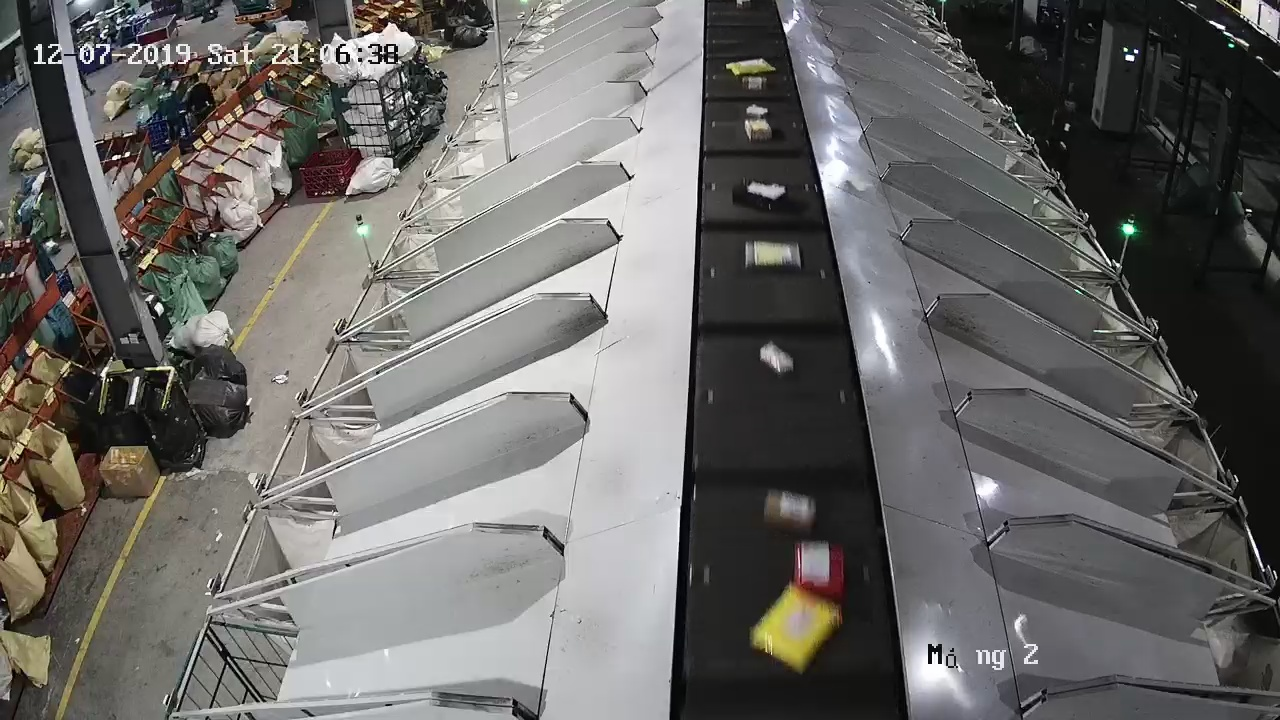parcel: (842, 176, 874, 192)
